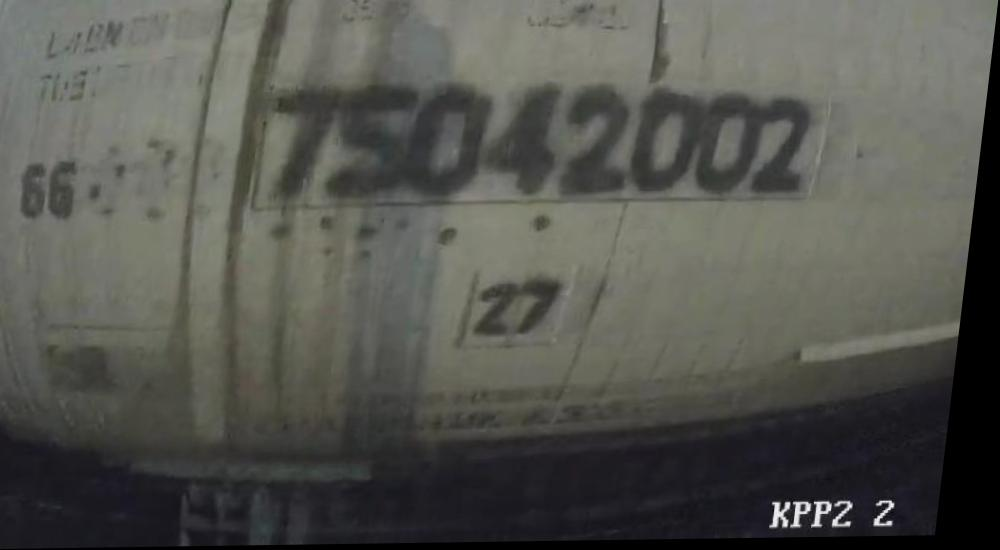Wagon-number: (264, 75, 823, 208)
